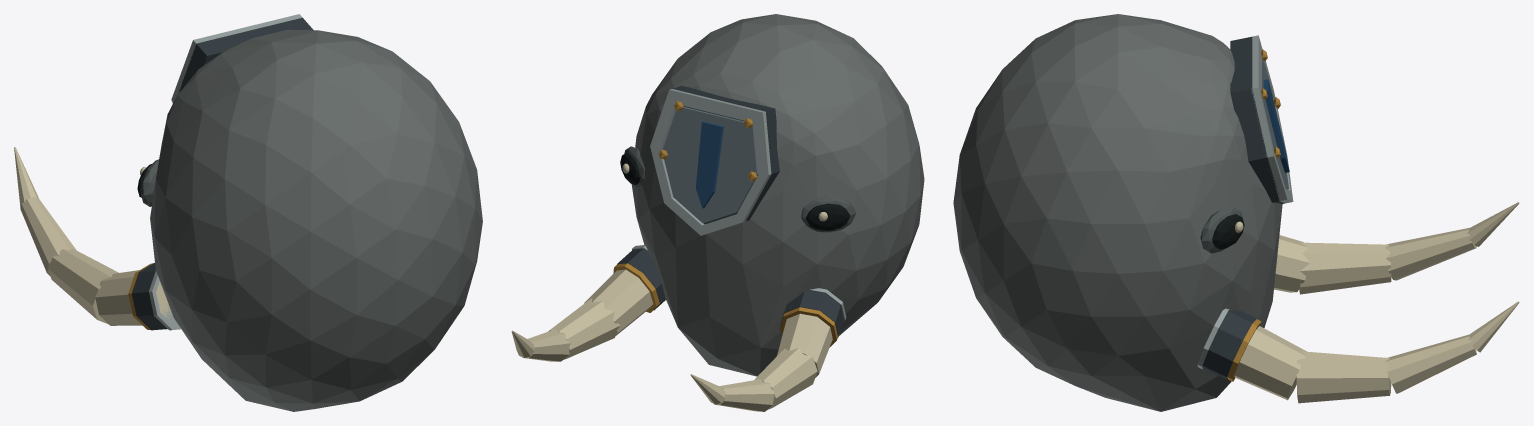
Rendered from Head.glb.
The picture shows the model from 3 angles, left to right: view 1: azimuth 30°, elevation 25°; view 2: azimuth 150°, elevation 25°; view 3: azimuth 270°, elevation 25°; orthographic projection. The views are drawn at different scales.
Visible parts, largest first — view 1: Sculpture; view 2: Sculpture; view 3: Sculpture.
Part boxes in pixels (left/top/right/bottom): Sculpture: left=14, top=14, right=482, bottom=411; Sculpture: left=511, top=14, right=924, bottom=411; Sculpture: left=953, top=14, right=1519, bottom=411.
Bounding box in the file's own units: 1.17 × 1.45 × 1.98.
